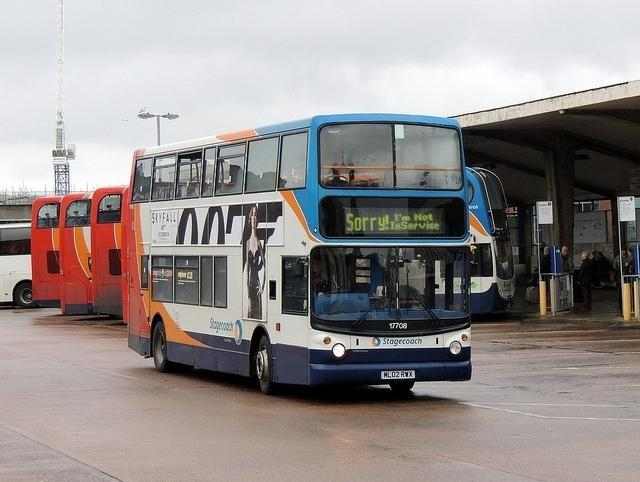bus: (122, 116, 472, 391), (466, 166, 516, 313), (91, 184, 130, 317), (57, 192, 93, 314), (0, 221, 37, 308), (31, 197, 61, 302)
